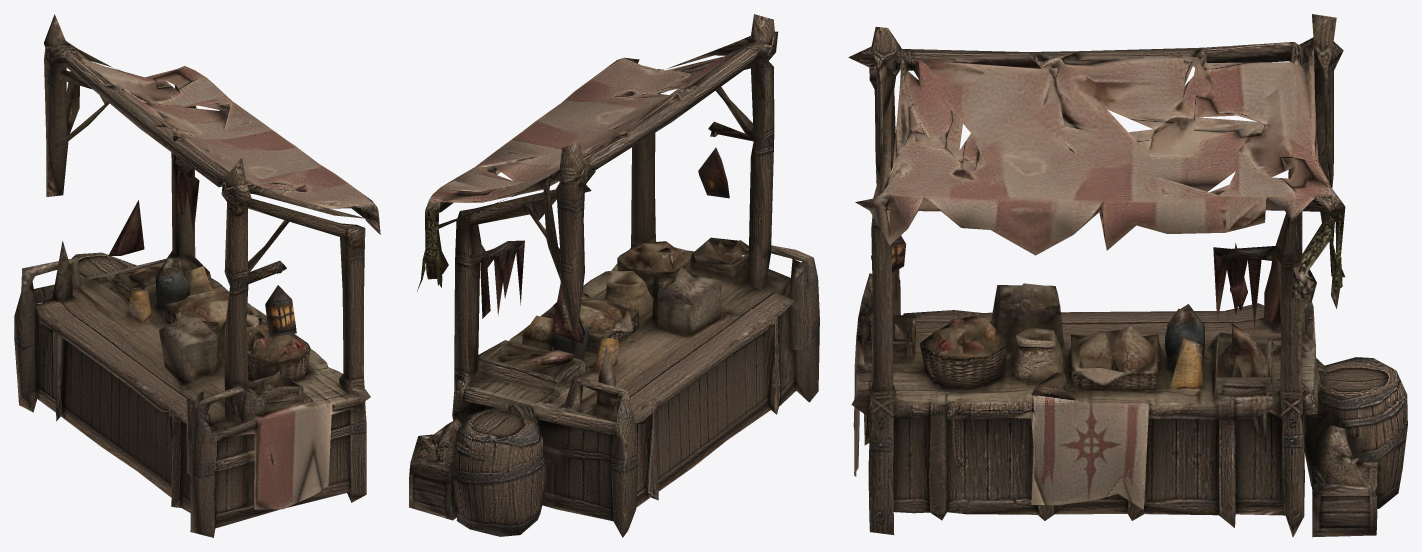
File: stall.glb
3 renders of one model, left to right at view 1: azimuth 30°, elevation 25°; view 2: azimuth 150°, elevation 25°; view 3: azimuth 270°, elevation 25°, orthographic. The views are drawn at different scales.
Size of the model in its own units: 0.4915 by 0.8875 by 1.
1 material, 1 textured.
